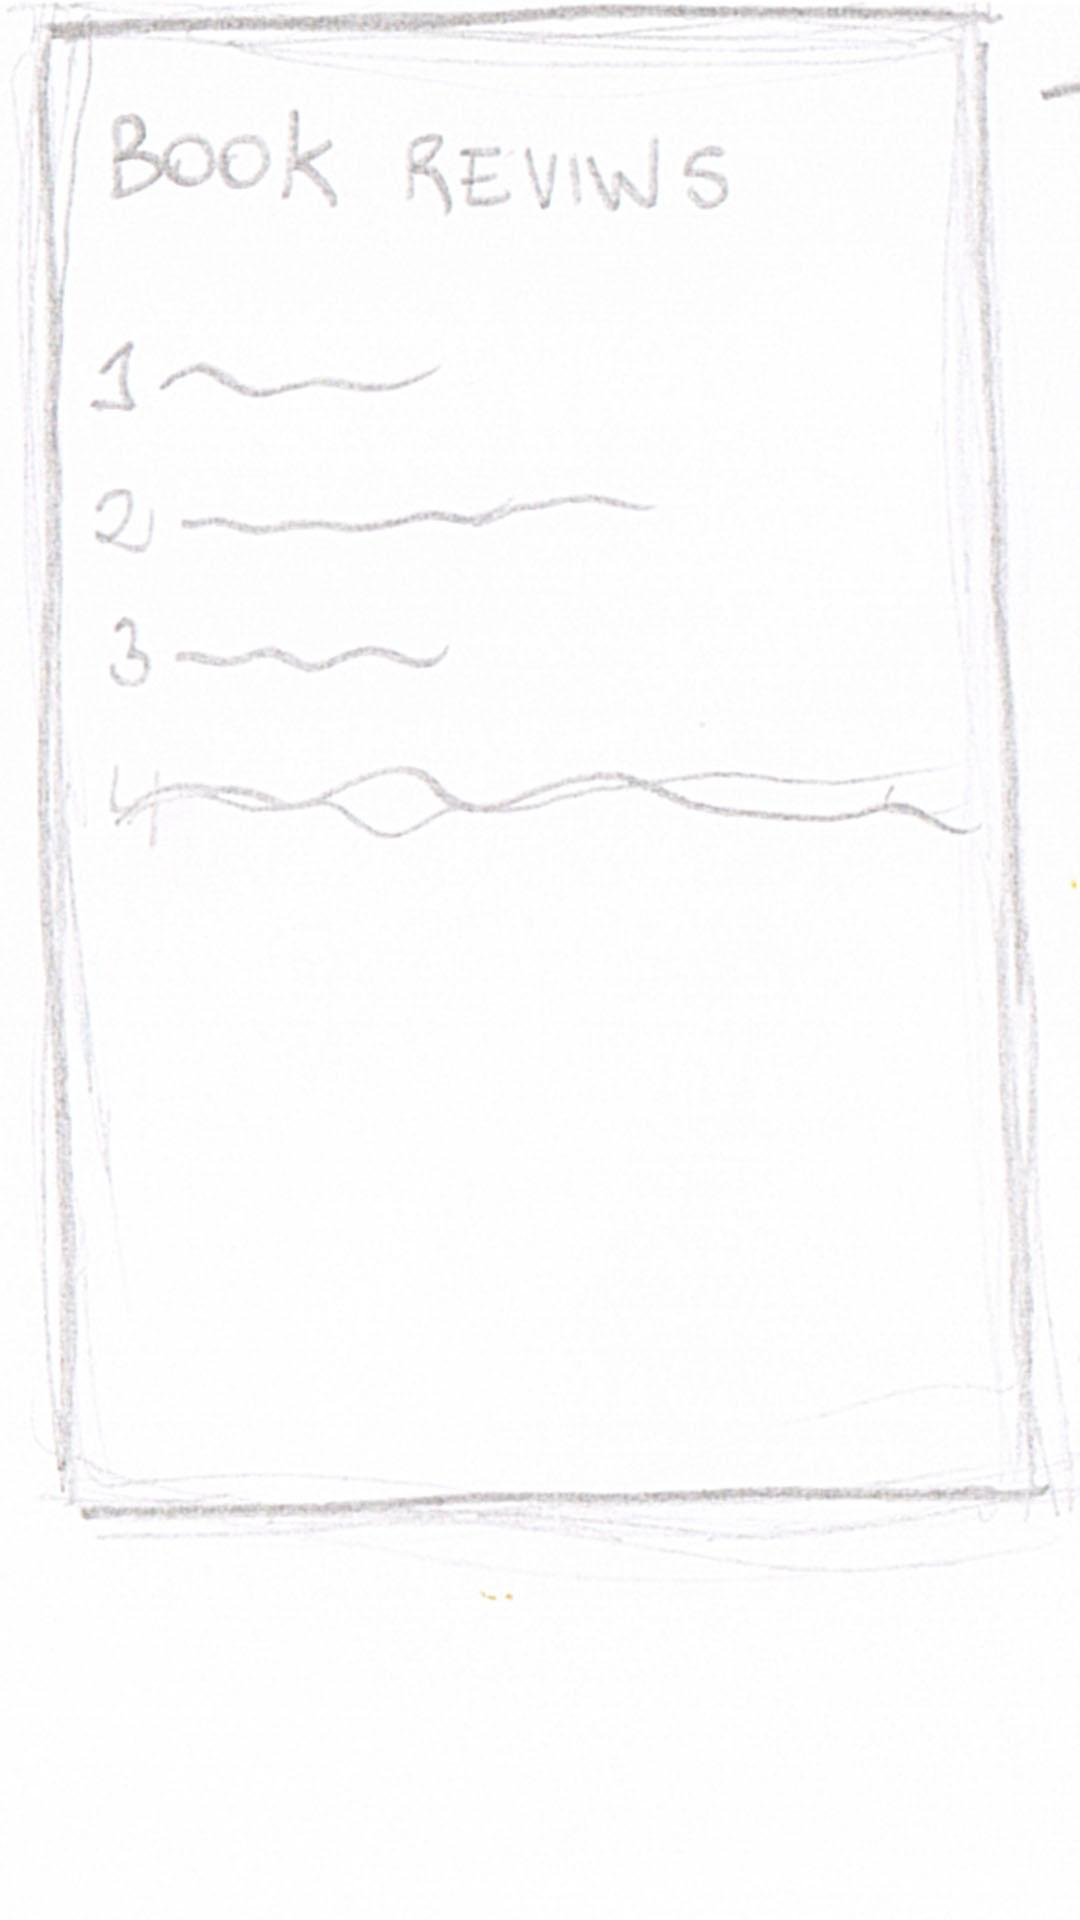Label: (105, 758, 985, 857), (107, 107, 733, 225), (87, 481, 659, 560), (84, 336, 450, 418), (103, 613, 456, 691)
Screen: (44, 22, 1052, 1511)
